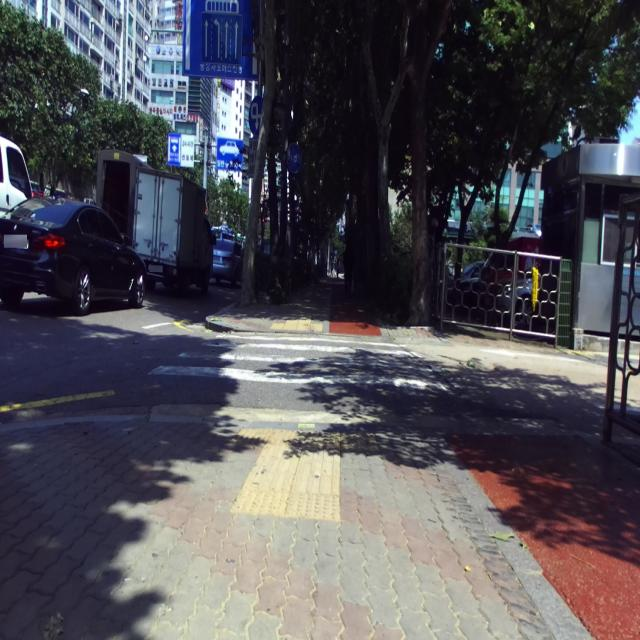횡단보도: (147, 334, 448, 392)
